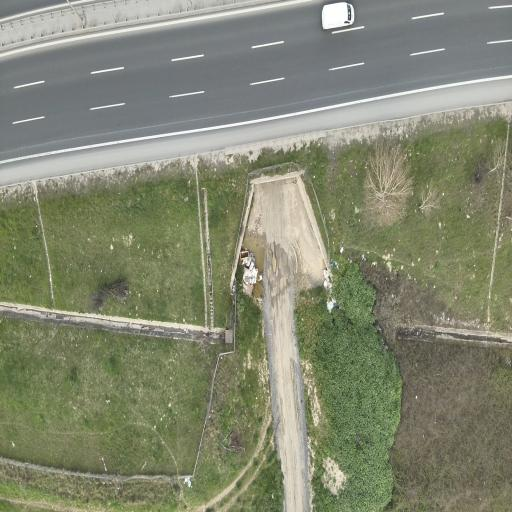car: (322, 2, 354, 29)
